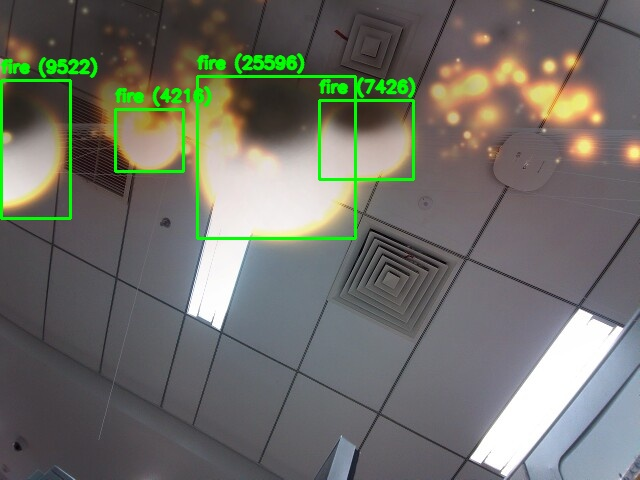fire: (197, 76, 355, 238), (1, 80, 70, 218), (319, 100, 413, 179), (115, 109, 183, 171)
